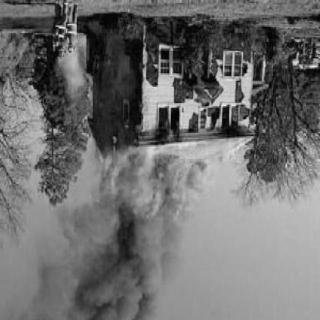Fire: (104, 143, 190, 225)
Smoke: (72, 207, 184, 315)
